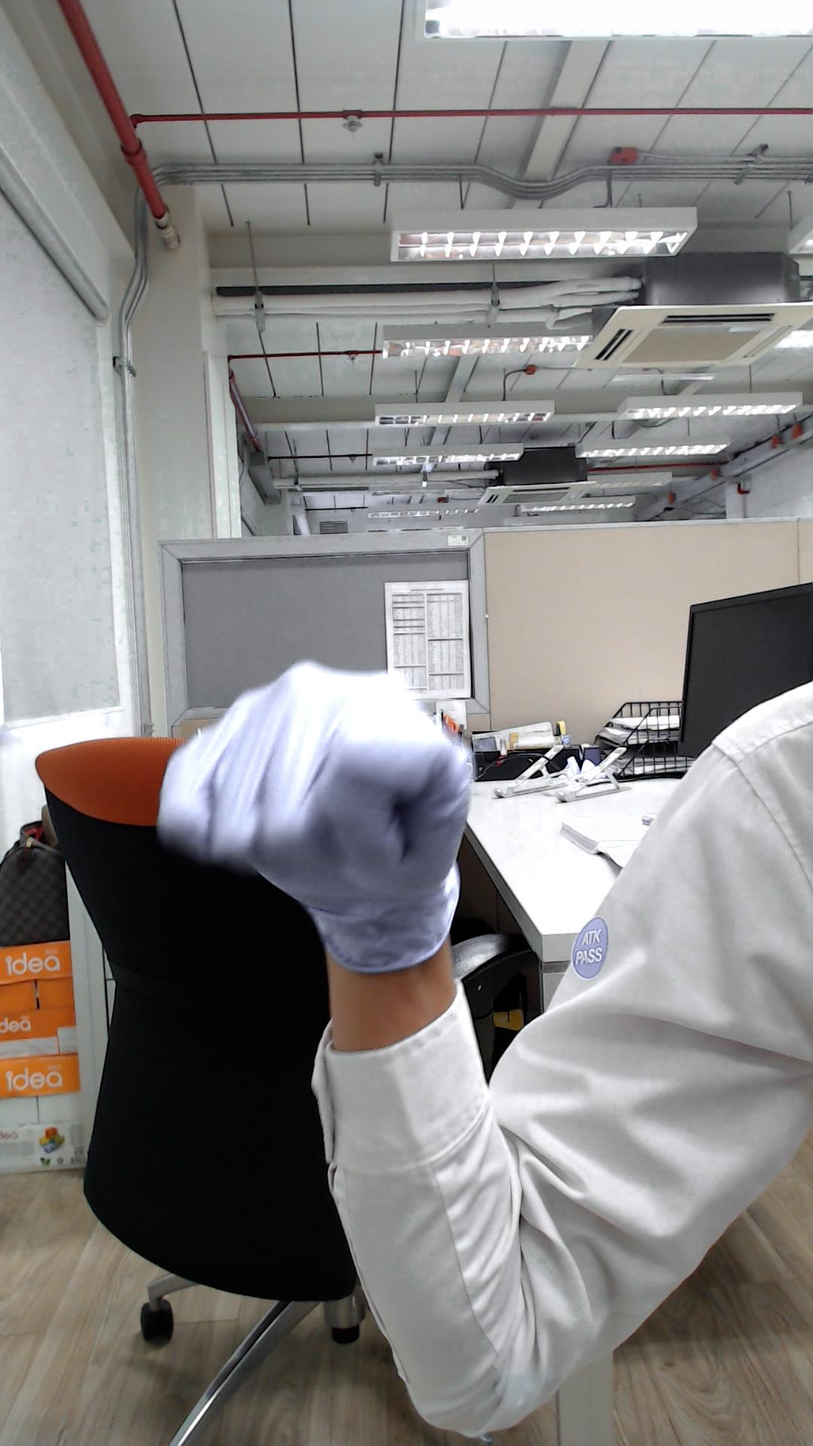gloves: (111, 621, 588, 930)
